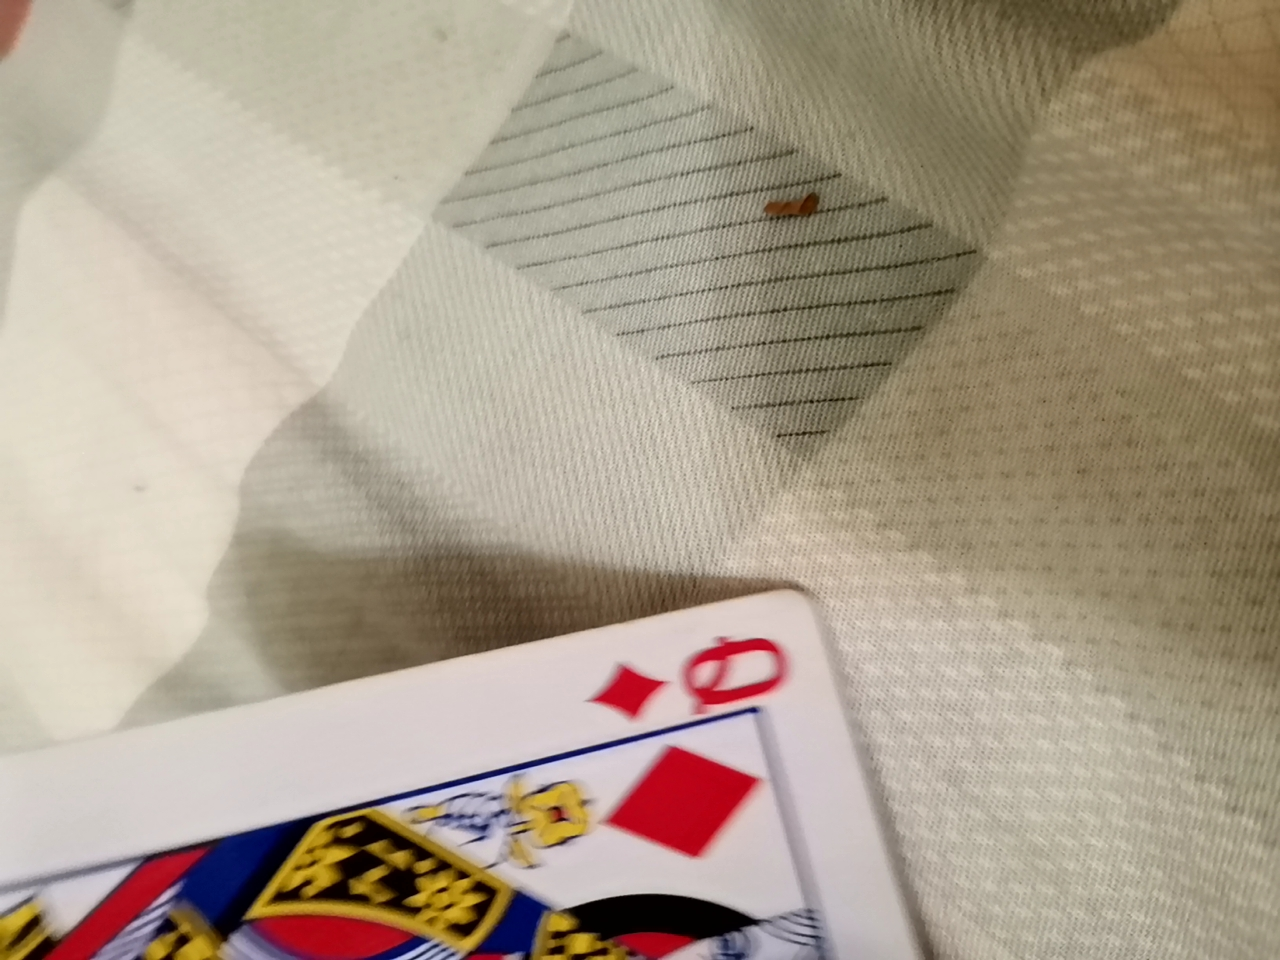fk q: (8, 591, 982, 954)
